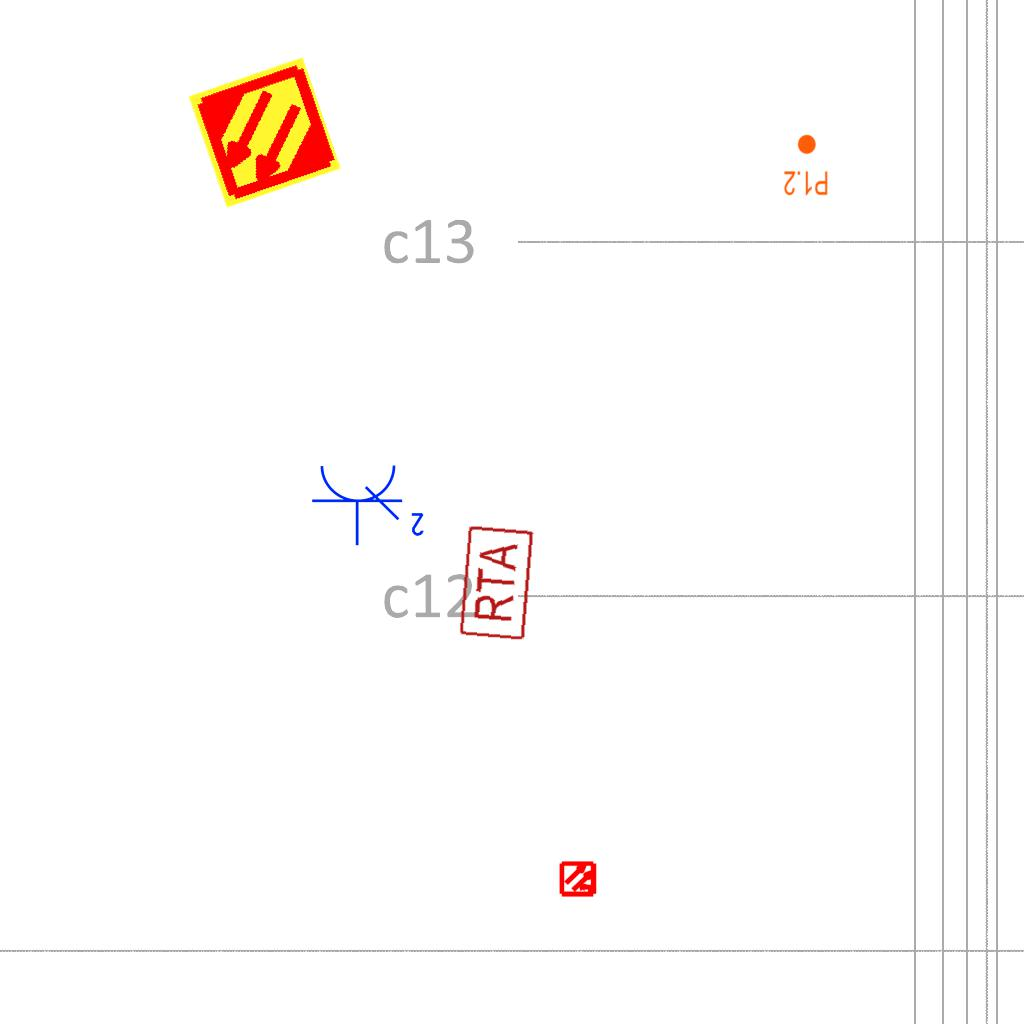ASR_Ansaugrauchmelder: (185, 53, 344, 212)
Downlight_LED_Einbauleuchten_Flur: (783, 133, 829, 197)
OT_Multisensormelder_(Kombination_RMO_WMD): (551, 851, 607, 907)
Ruf-und_Abstelltaster: (457, 524, 536, 644)
Schukosteckdose_mehrfach: (310, 459, 431, 547)
